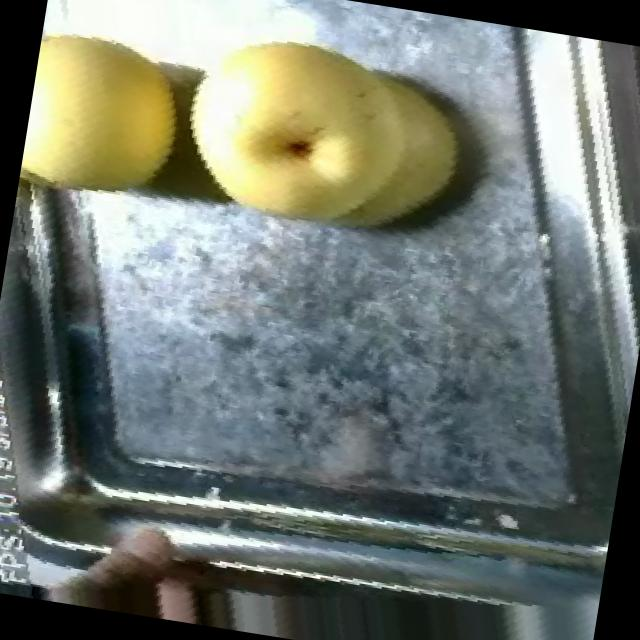Fruit: (154, 0, 508, 287), (13, 5, 205, 236)
